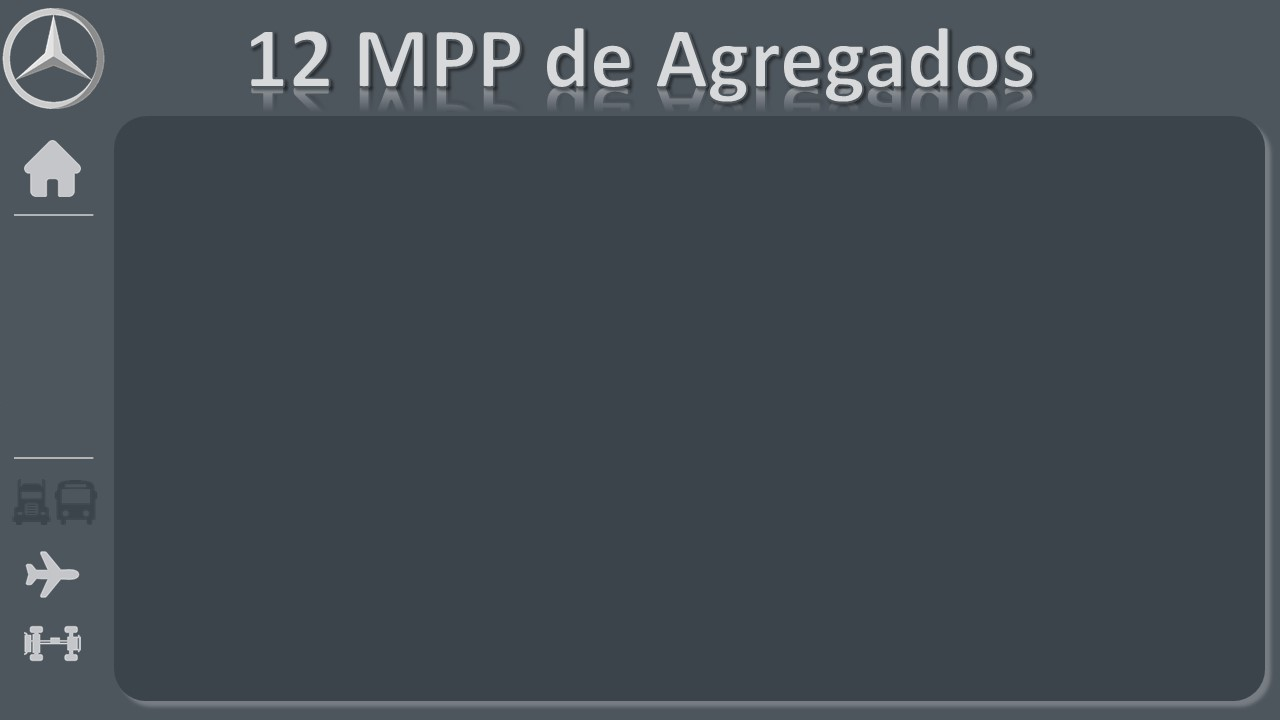

This screenshot's page, from the dashboard's own definition file:
{"tool":"powerbi","page":{"name":"HomePage","canvas":[1280,720],"ordinal":0},"visuals":[{"type":"actionButton","box":[198.9,360.1,229,86.7],"z":0},{"type":"actionButton","box":[198.9,461.9,229,72.6],"z":1000},{"type":"actionButton","box":[198.9,555.2,240.4,80.1],"z":2000},{"type":"actionButton","box":[570.3,360.1,229,86.7],"z":3000},{"type":"actionButton","box":[566.5,461.9,229,72.6],"z":4000},{"type":"actionButton","box":[570.3,555.2,240.4,80.1],"z":5000},{"type":"actionButton","box":[934.1,360.1,229,86.7],"z":6000},{"type":"actionButton","box":[931.3,461.9,229,72.6],"z":7000},{"type":"actionButton","box":[936,555.2,240.4,80.1],"z":8000}]}

Visuals, with their boxes in screenshot pixels (x1, y1, x2, y2), scaled from the page's 1280x720 canvas onto the 1280x720 screenshot:
actionButton: [199, 360, 428, 447]
actionButton: [199, 462, 428, 534]
actionButton: [199, 555, 439, 635]
actionButton: [570, 360, 799, 447]
actionButton: [566, 462, 796, 534]
actionButton: [570, 555, 811, 635]
actionButton: [934, 360, 1163, 447]
actionButton: [931, 462, 1160, 534]
actionButton: [936, 555, 1176, 635]
